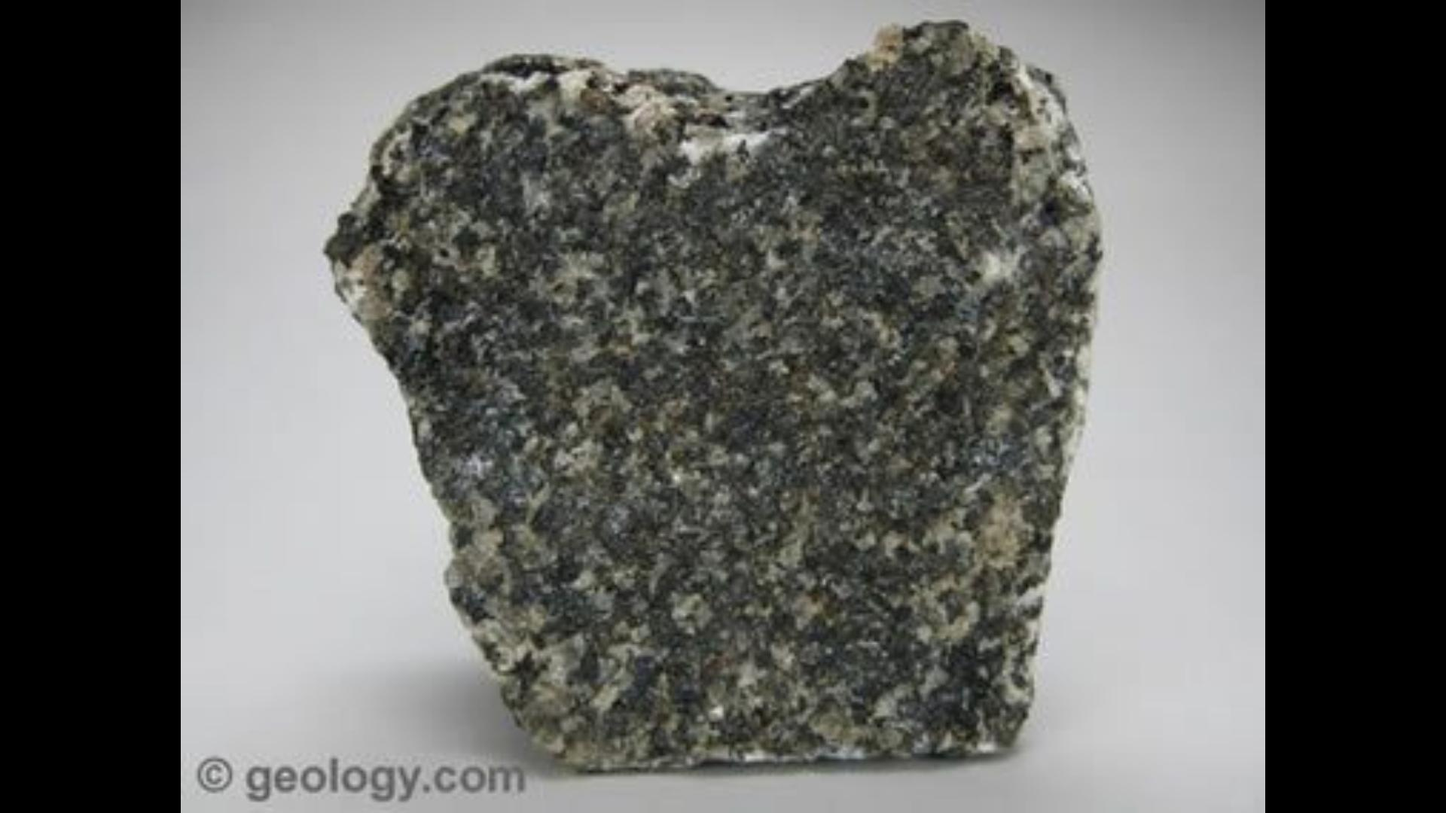rock: (326, 23, 1100, 767)
